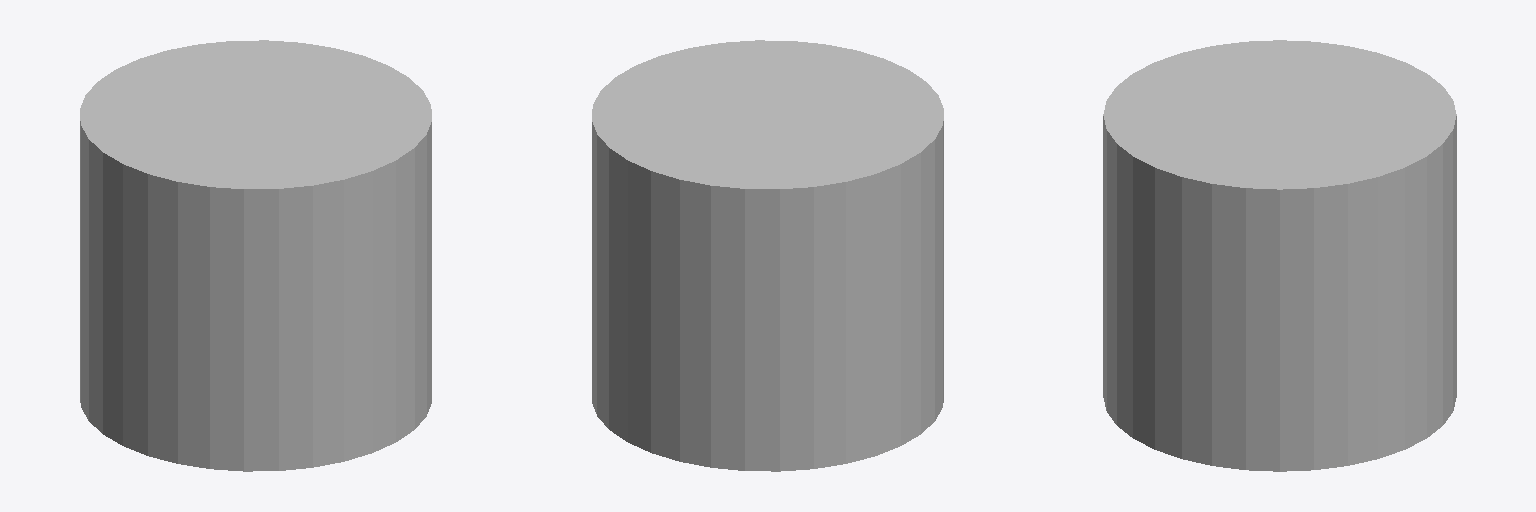
File: drumsetV4_MidDrum_Hitbox.obj
3 views of the same model, side by side, from view 1: azimuth 30°, elevation 25°; view 2: azimuth 150°, elevation 25°; view 3: azimuth 270°, elevation 25° (orthographic).
Visible parts, largest first — view 1: drumsetV4_MidDrum_Hitbox_Cylinder.001; view 2: drumsetV4_MidDrum_Hitbox_Cylinder.001; view 3: drumsetV4_MidDrum_Hitbox_Cylinder.001.
Part boxes in pixels (left/top/right/bottom): drumsetV4_MidDrum_Hitbox_Cylinder.001: left=80, top=40, right=431, bottom=471; drumsetV4_MidDrum_Hitbox_Cylinder.001: left=592, top=40, right=943, bottom=471; drumsetV4_MidDrum_Hitbox_Cylinder.001: left=1103, top=40, right=1456, bottom=471.
Size of the model in its own units: 1.4 by 1.24 by 1.4.